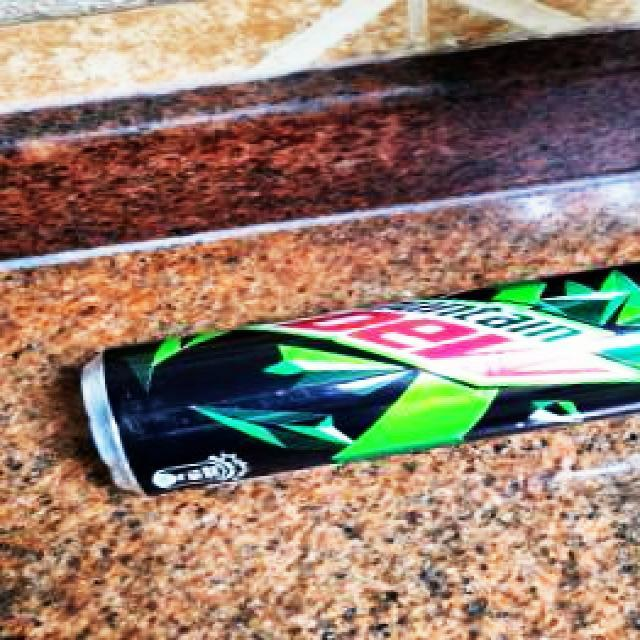Lata: (81, 264, 640, 493)
